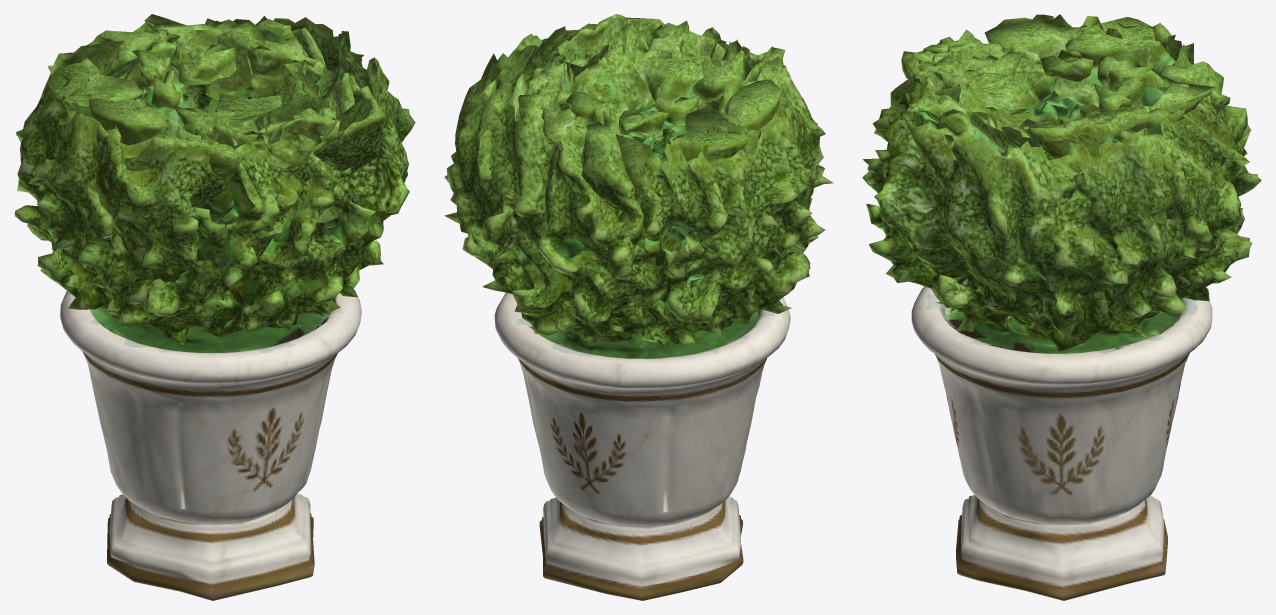
Rendered from busto.glb.
The picture shows the model from 3 angles, left to right: view 1: azimuth 30°, elevation 25°; view 2: azimuth 150°, elevation 25°; view 3: azimuth 270°, elevation 25°; orthographic projection. The views are drawn at different scales.
Size of the model in its own units: 1.21 by 1.59 by 1.2.
Materials: 1 (1 with a texture image).
